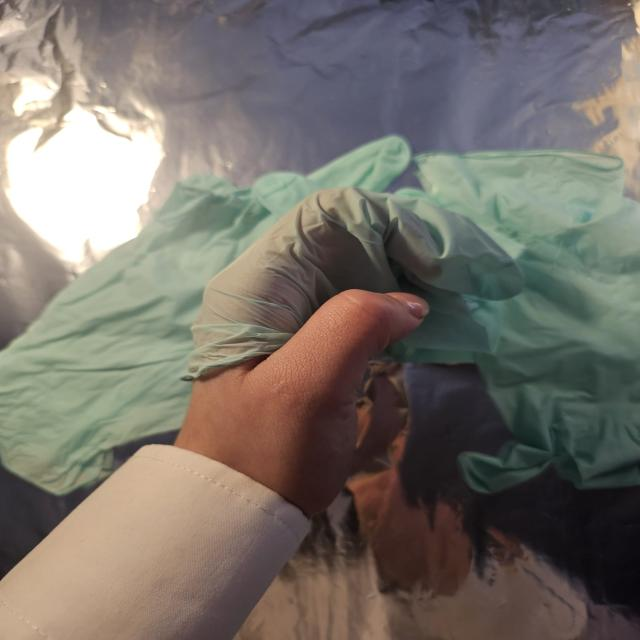glove_partial: (179, 187, 524, 524)
